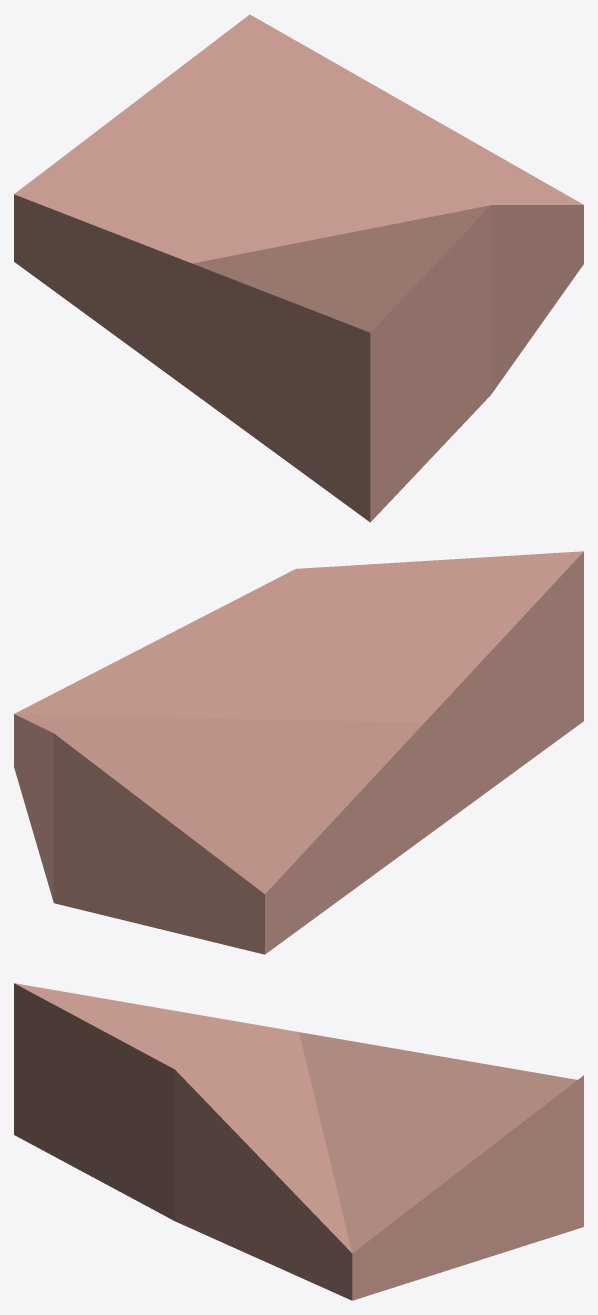
Rendered from Debris_R3_3.fbx.
3 views of the same model, one above another, from view 1: azimuth 30°, elevation 25°; view 2: azimuth 150°, elevation 25°; view 3: azimuth 270°, elevation 25° (orthographic). The views are drawn at different scales.
Visible parts, largest first — view 1: Debris_R3_3; view 2: Debris_R3_3; view 3: Debris_R3_3.
Boxes of the visible parts, x1,y1,x2,y2 form: Debris_R3_3: (14,14,583,522); Debris_R3_3: (14,551,583,954); Debris_R3_3: (14,983,583,1300).
Bounding box in the file's own units: 2.56 × 1.09 × 3.72.
